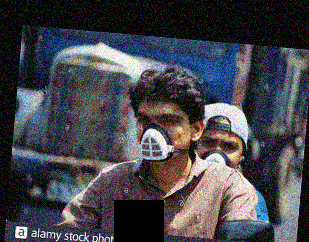with_mask: (134, 109, 191, 164), (197, 132, 242, 167)
